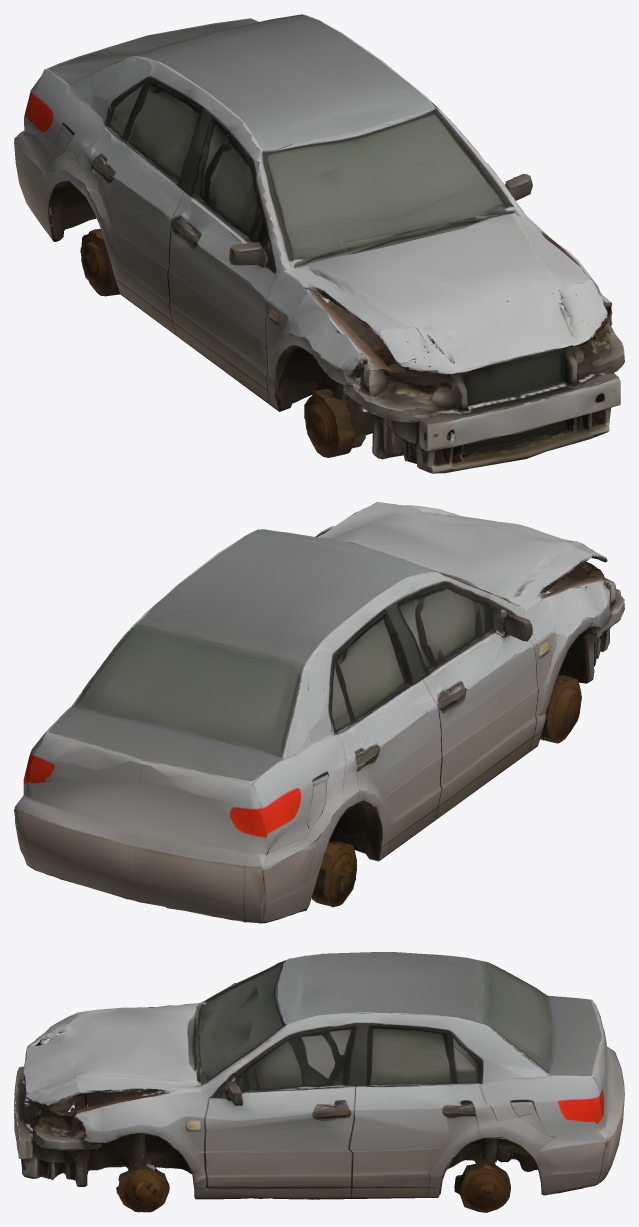
Rendered from Car4.fbx.
3 renders of one model, top to bottom at view 1: azimuth 30°, elevation 25°; view 2: azimuth 150°, elevation 25°; view 3: azimuth 270°, elevation 25°, orthographic. The views are drawn at different scales.
Parts seen in each view (by area): view 1: textured_mesh.obj; view 2: textured_mesh.obj; view 3: textured_mesh.obj.
Part boxes in pixels (x1,y1,x2,y2): textured_mesh.obj: (14, 14, 624, 473); textured_mesh.obj: (14, 502, 624, 923); textured_mesh.obj: (14, 952, 624, 1212).
Bounding box in the file's own units: 251 × 198 × 581.
